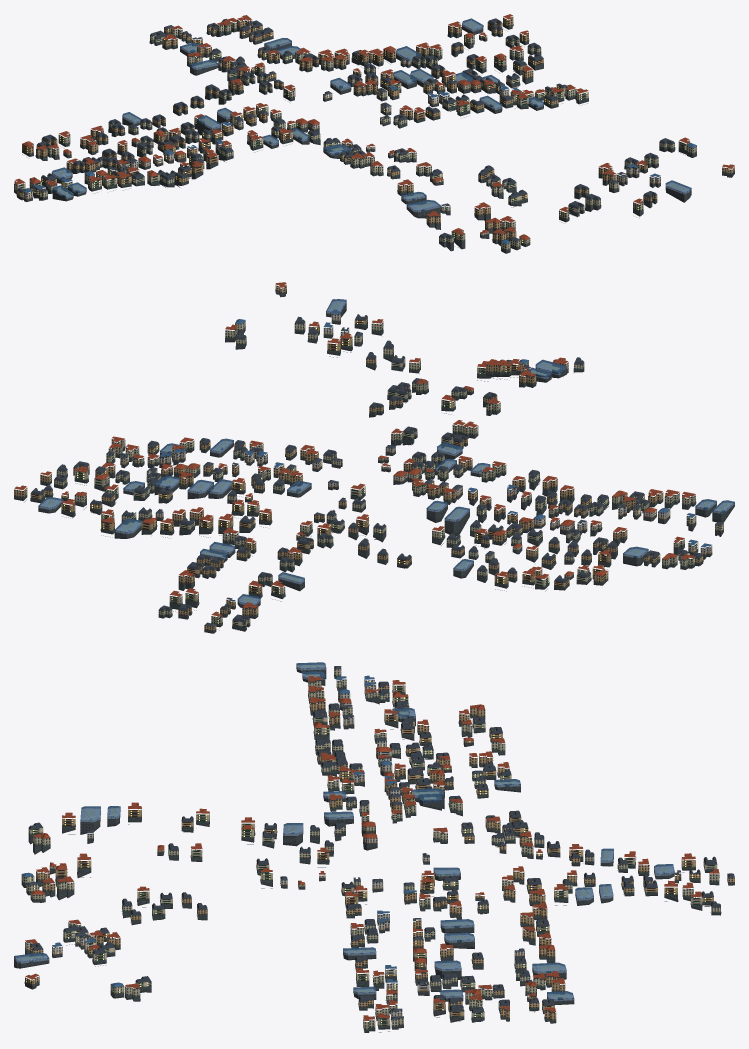
The model's file is osm_buildings_T_W02_N00_Q1.glb.
3 views of the same model, one above another, from view 1: azimuth 30°, elevation 25°; view 2: azimuth 150°, elevation 25°; view 3: azimuth 270°, elevation 25° (orthographic). The views are drawn at different scales.
Visible parts, largest first — view 1: OSM_T_W02_N00_Q1_foundation, OSM_T_W02_N00_Q1_wall_french_ochre, OSM_T_W02_N00_Q1_wall_cream_stucco, OSM_T_W02_N00_Q1_roof_terracotta, OSM_T_W02_N00_Q1_roof_mansard_slate, OSM_T_W02_N00_Q1_greenhouse_blend, OSM_T_W02_N00_Q1_roof_mansard_deck, OSM_T_W02_N00_Q1_roof_mint_metal, OSM_T_W02_N00_Q1_balcony_railing, OSM_T_W02_N00_Q1_window_emissive_warm, OSM_T_W02_N00_Q1_wall_warm_white, OSM_T_W02_N00_Q1_trim_cornice (+2 smaller); view 2: OSM_T_W02_N00_Q1_foundation, OSM_T_W02_N00_Q1_wall_french_ochre, OSM_T_W02_N00_Q1_wall_cream_stucco, OSM_T_W02_N00_Q1_roof_terracotta, OSM_T_W02_N00_Q1_roof_mansard_slate, OSM_T_W02_N00_Q1_greenhouse_blend, OSM_T_W02_N00_Q1_roof_mansard_deck, OSM_T_W02_N00_Q1_trim_cornice, OSM_T_W02_N00_Q1_roof_mint_metal, OSM_T_W02_N00_Q1_wall_warm_white, OSM_T_W02_N00_Q1_balcony_railing, OSM_T_W02_N00_Q1_window_emissive_warm (+2 smaller); view 3: OSM_T_W02_N00_Q1_foundation, OSM_T_W02_N00_Q1_wall_cream_stucco, OSM_T_W02_N00_Q1_wall_french_ochre, OSM_T_W02_N00_Q1_roof_terracotta, OSM_T_W02_N00_Q1_roof_mansard_slate, OSM_T_W02_N00_Q1_greenhouse_blend, OSM_T_W02_N00_Q1_roof_mansard_deck, OSM_T_W02_N00_Q1_trim_cornice, OSM_T_W02_N00_Q1_roof_mint_metal, OSM_T_W02_N00_Q1_wall_warm_white, OSM_T_W02_N00_Q1_balcony_railing, OSM_T_W02_N00_Q1_window_emissive_warm (+2 smaller).
Boxes of the visible parts, x1=… form: OSM_T_W02_N00_Q1_foundation: x1=14, y1=23, x2=734, y2=253; OSM_T_W02_N00_Q1_wall_french_ochre: x1=17, y1=17, x2=734, y2=240; OSM_T_W02_N00_Q1_wall_cream_stucco: x1=14, y1=22, x2=696, y2=250; OSM_T_W02_N00_Q1_roof_terracotta: x1=14, y1=14, x2=734, y2=240; OSM_T_W02_N00_Q1_roof_mansard_slate: x1=17, y1=19, x2=674, y2=241; OSM_T_W02_N00_Q1_greenhouse_blend: x1=51, y1=18, x2=691, y2=212; OSM_T_W02_N00_Q1_roof_mansard_deck: x1=18, y1=18, x2=690, y2=236; OSM_T_W02_N00_Q1_roof_mint_metal: x1=14, y1=23, x2=734, y2=249; OSM_T_W02_N00_Q1_balcony_railing: x1=17, y1=19, x2=734, y2=241; OSM_T_W02_N00_Q1_window_emissive_warm: x1=20, y1=22, x2=734, y2=242; OSM_T_W02_N00_Q1_wall_warm_white: x1=33, y1=59, x2=660, y2=211; OSM_T_W02_N00_Q1_trim_cornice: x1=21, y1=20, x2=731, y2=247; OSM_T_W02_N00_Q1_foundation: x1=14, y1=289, x2=734, y2=633; OSM_T_W02_N00_Q1_wall_french_ochre: x1=14, y1=285, x2=703, y2=630; OSM_T_W02_N00_Q1_wall_cream_stucco: x1=54, y1=320, x2=723, y2=627; OSM_T_W02_N00_Q1_roof_terracotta: x1=14, y1=282, x2=695, y2=618; OSM_T_W02_N00_Q1_roof_mansard_slate: x1=30, y1=314, x2=723, y2=626; OSM_T_W02_N00_Q1_greenhouse_blend: x1=38, y1=299, x2=734, y2=605; OSM_T_W02_N00_Q1_roof_mansard_deck: x1=32, y1=302, x2=734, y2=619; OSM_T_W02_N00_Q1_trim_cornice: x1=14, y1=284, x2=722, y2=631; OSM_T_W02_N00_Q1_roof_mint_metal: x1=14, y1=290, x2=702, y2=628; OSM_T_W02_N00_Q1_wall_warm_white: x1=120, y1=313, x2=698, y2=552; OSM_T_W02_N00_Q1_balcony_railing: x1=24, y1=323, x2=703, y2=622; OSM_T_W02_N00_Q1_window_emissive_warm: x1=26, y1=302, x2=728, y2=623; OSM_T_W02_N00_Q1_foundation: x1=14, y1=666, x2=734, y2=1032; OSM_T_W02_N00_Q1_wall_cream_stucco: x1=21, y1=667, x2=720, y2=1029; OSM_T_W02_N00_Q1_wall_french_ochre: x1=25, y1=684, x2=734, y2=1020; OSM_T_W02_N00_Q1_roof_terracotta: x1=25, y1=676, x2=719, y2=1021; OSM_T_W02_N00_Q1_roof_mansard_slate: x1=26, y1=666, x2=734, y2=1019; OSM_T_W02_N00_Q1_greenhouse_blend: x1=14, y1=662, x2=674, y2=1001; OSM_T_W02_N00_Q1_roof_mansard_deck: x1=15, y1=667, x2=719, y2=1010; OSM_T_W02_N00_Q1_trim_cornice: x1=26, y1=669, x2=732, y2=1032; OSM_T_W02_N00_Q1_roof_mint_metal: x1=25, y1=693, x2=720, y2=1029; OSM_T_W02_N00_Q1_wall_warm_white: x1=52, y1=685, x2=524, y2=1017; OSM_T_W02_N00_Q1_balcony_railing: x1=25, y1=682, x2=719, y2=1024; OSM_T_W02_N00_Q1_window_emissive_warm: x1=21, y1=665, x2=711, y2=1023.
Bounding box in the file's own units: 940 × 108 × 922.
Materials: 16 (16 with a texture image).
